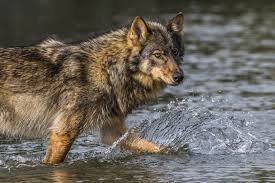wolf: (1, 11, 211, 173)
